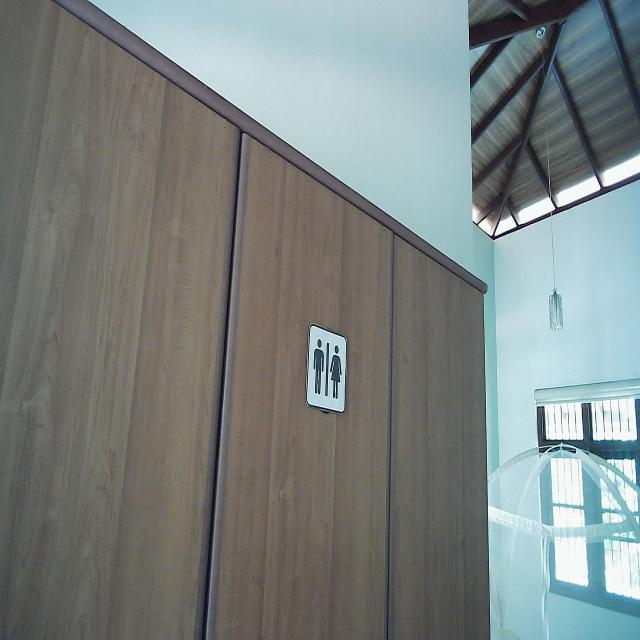restroom: (304, 319, 350, 418)
